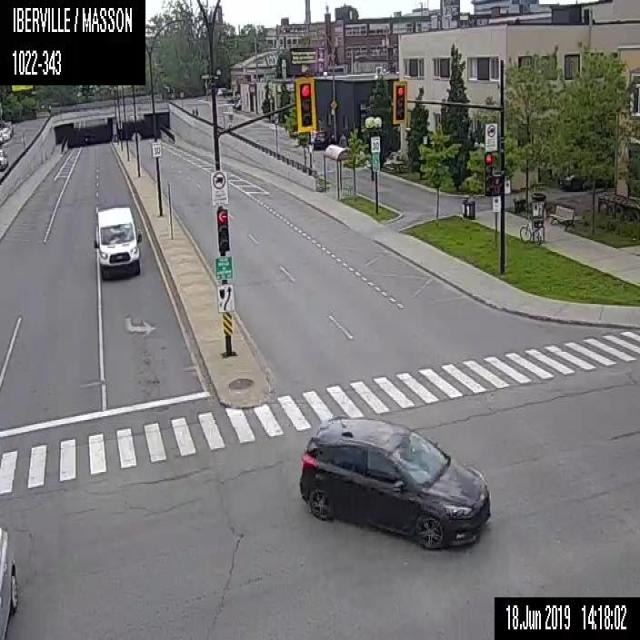vehicle: (298, 416, 490, 551), (93, 207, 142, 281), (0, 525, 19, 639), (0, 146, 8, 170), (1, 126, 12, 141)
